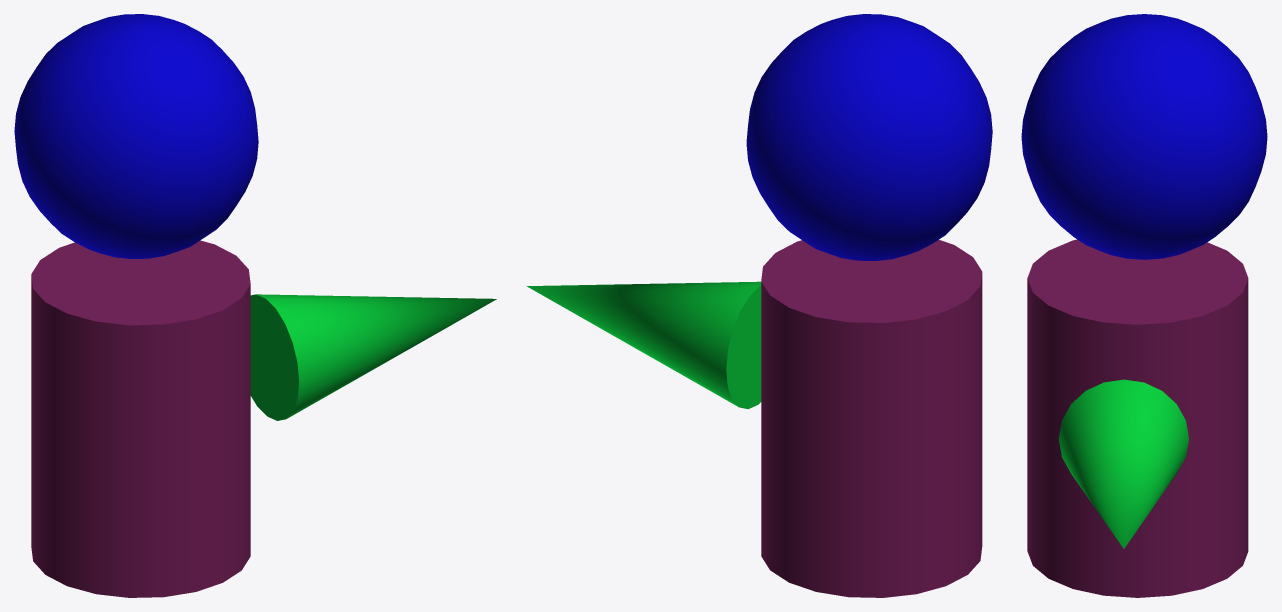
Rendered from TestModel.dae.
3 renders of one model, left to right at view 1: azimuth 30°, elevation 25°; view 2: azimuth 150°, elevation 25°; view 3: azimuth 270°, elevation 25°, orthographic.
Visible parts, largest first — view 1: pCylinder1, pSphere1, pCone1; view 2: pCylinder1, pSphere1, pCone1; view 3: pCylinder1, pSphere1, pCone1.
Part boxes in pixels (x1,y1,x2,y2): pCylinder1: (31, 240, 250, 597); pSphere1: (14, 14, 258, 258); pCone1: (250, 294, 496, 420); pCylinder1: (761, 240, 982, 597); pSphere1: (746, 14, 992, 260); pCone1: (526, 281, 761, 409); pCylinder1: (1027, 239, 1248, 597); pSphere1: (1021, 14, 1267, 259); pCone1: (1059, 379, 1188, 548).
Bounding box in the file's own units: 9.91 × 10.86 × 4.61.
